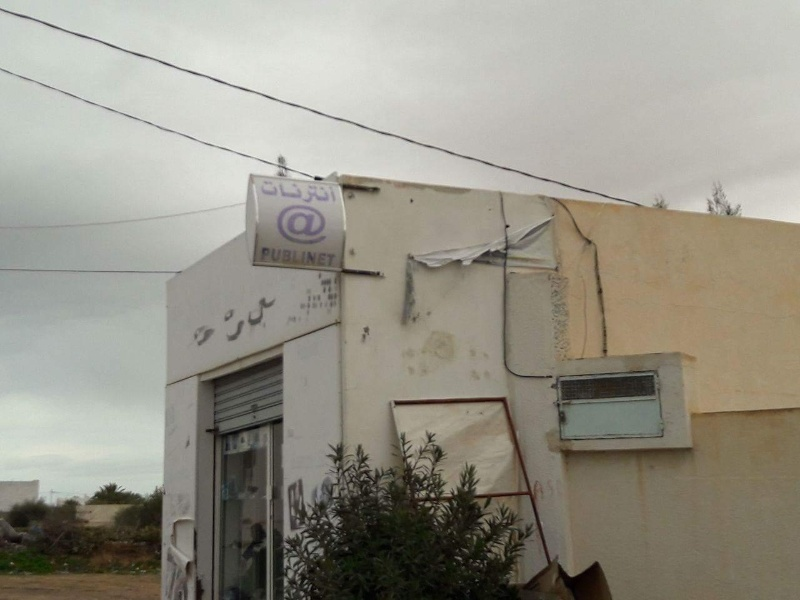text: (289, 201, 304, 248), (305, 201, 320, 248), (276, 201, 288, 248), (321, 179, 337, 208), (273, 179, 288, 208), (289, 179, 304, 208), (305, 179, 320, 208), (321, 201, 330, 248), (273, 246, 288, 270), (289, 246, 304, 270), (305, 246, 320, 270), (321, 246, 336, 270), (531, 479, 544, 502), (262, 179, 272, 208), (263, 246, 272, 270), (337, 246, 339, 270), (545, 479, 547, 502)
